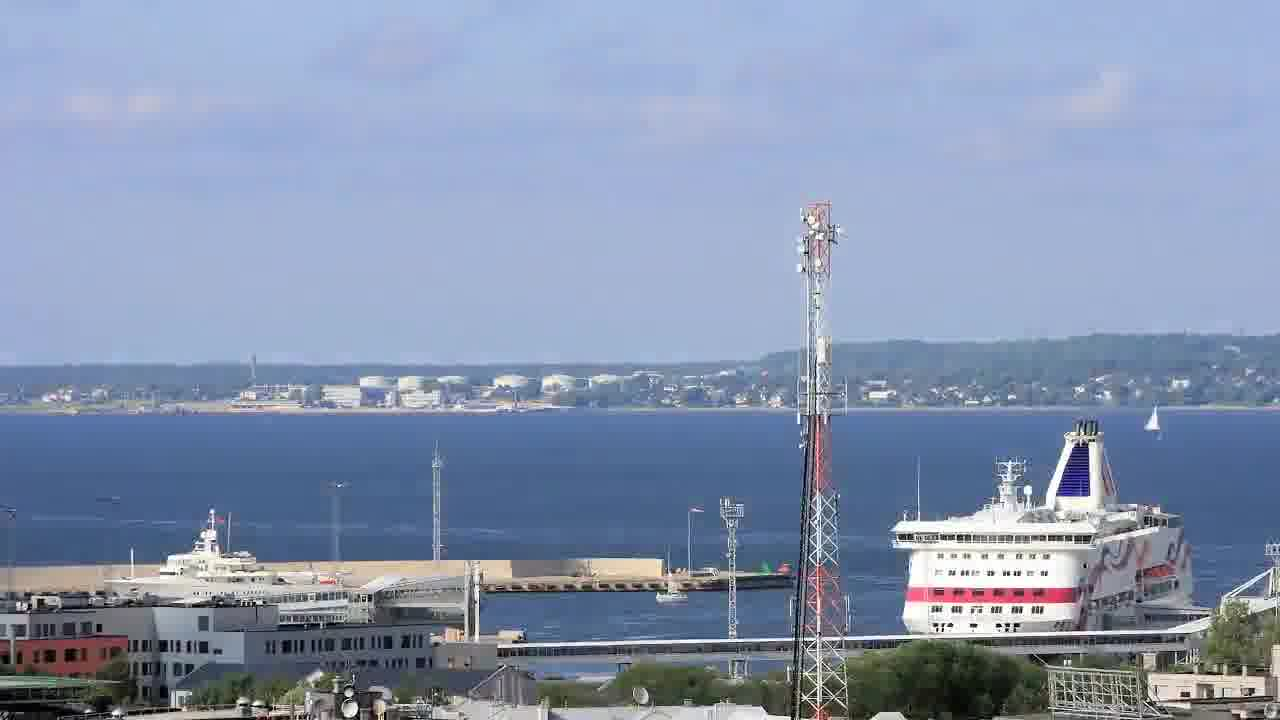type-2: (644, 533, 711, 616), (1134, 394, 1178, 446)
type-3: (868, 415, 1225, 638), (84, 511, 353, 609)
